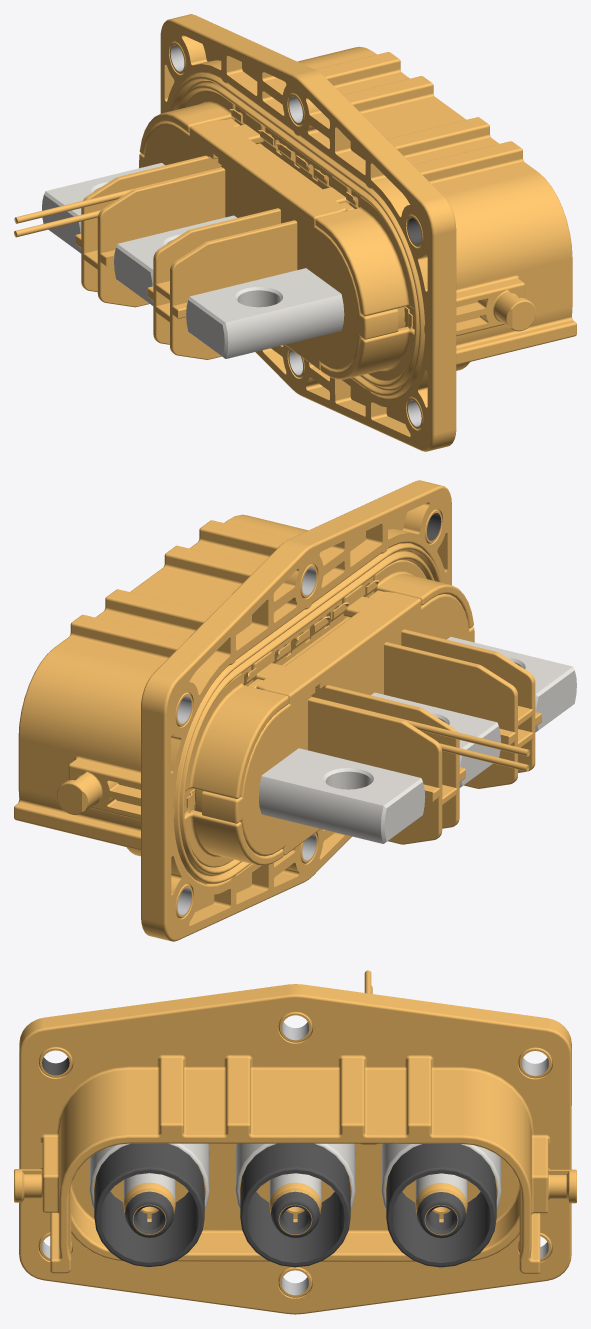
File: EVH1A-F3ZJ-WA .glb
3 renders of one model, top to bottom at view 1: azimuth 30°, elevation 25°; view 2: azimuth 150°, elevation 25°; view 3: azimuth 270°, elevation 25°, orthographic. The views are drawn at different scales.
Parts seen in each view (by area): view 1: EVH1A-F3ZJ-WA v5; view 2: EVH1A-F3ZJ-WA v5; view 3: EVH1A-F3ZJ-WA v5.
Boxes of the visible parts, <box> form: EVH1A-F3ZJ-WA v5: <box>14,14,576,451</box>; EVH1A-F3ZJ-WA v5: <box>14,480,576,941</box>; EVH1A-F3ZJ-WA v5: <box>14,970,576,1314</box>.
Size of the model in its own units: 9.07 by 6.77 by 10.8.
